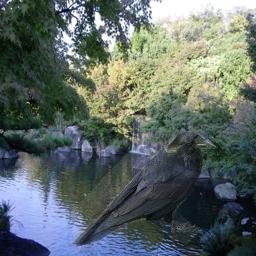Crow: (72, 131, 218, 248)
